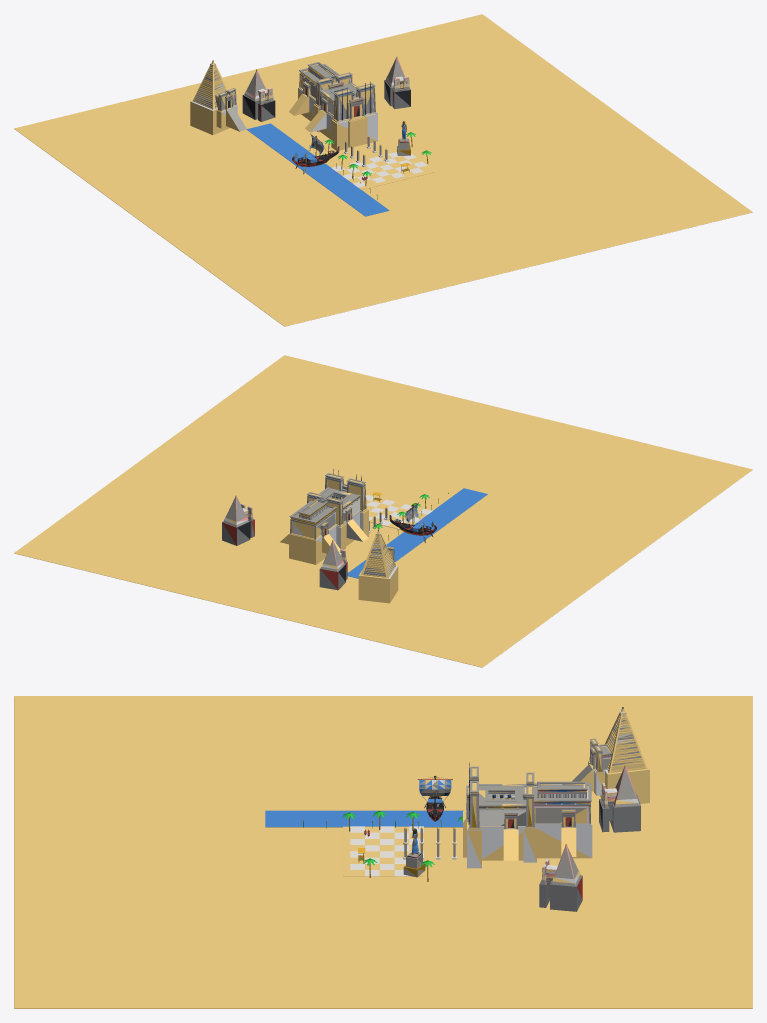
File: nile_pyramids.glb
3 views of the same model, one above another, from view 1: azimuth 30°, elevation 25°; view 2: azimuth 150°, elevation 25°; view 3: azimuth 270°, elevation 25° (orthographic). The views are drawn at different scales.
Visible parts, largest first — view 1: Flat_001, Lowpoly_temple_amun, Flat_023, Lowpoly_pyramid_large, Flat_002, Lowpoly_pyramid_small, Lowpoly_pyramid_small_b, Lowpoly_merchant_ship; view 2: Flat_001, Lowpoly_temple_amun, Lowpoly_pyramid_large, Flat_023, Lowpoly_pyramid_small_b, Lowpoly_pyramid_small, Flat_002, Lowpoly_merchant_ship; view 3: Flat_001, Lowpoly_temple_amun, Lowpoly_pyramid_large, Flat_023, Lowpoly_pyramid_small_b, Flat_002, Lowpoly_pyramid_small, Lowpoly_merchant_ship, Lowpoly_statue_isis.
Part boxes in pixels (bbox=[...]): Flat_001: bbox=[14, 14, 752, 326]; Lowpoly_temple_amun: bbox=[289, 62, 377, 150]; Flat_023: bbox=[246, 123, 389, 216]; Lowpoly_pyramid_large: bbox=[190, 60, 246, 134]; Flat_002: bbox=[337, 155, 435, 189]; Lowpoly_pyramid_small: bbox=[242, 69, 275, 121]; Lowpoly_pyramid_small_b: bbox=[384, 56, 410, 109]; Lowpoly_merchant_ship: bbox=[292, 134, 339, 174]; Flat_001: bbox=[14, 355, 752, 667]; Lowpoly_temple_amun: bbox=[280, 469, 368, 564]; Lowpoly_pyramid_large: bbox=[358, 529, 398, 603]; Flat_023: bbox=[347, 488, 487, 578]; Lowpoly_pyramid_small_b: bbox=[222, 495, 254, 545]; Lowpoly_pyramid_small: bbox=[319, 540, 347, 590]; Flat_002: bbox=[366, 492, 434, 529]; Lowpoly_merchant_ship: bbox=[389, 502, 436, 542]; Flat_001: bbox=[14, 696, 752, 1008]; Lowpoly_temple_amun: bbox=[463, 762, 592, 868]; Lowpoly_pyramid_large: bbox=[572, 706, 649, 803]; Flat_023: bbox=[265, 810, 463, 827]; Lowpoly_pyramid_small_b: bbox=[539, 843, 582, 911]; Flat_002: bbox=[343, 826, 423, 876]; Lowpoly_pyramid_small: bbox=[599, 764, 640, 832]; Lowpoly_merchant_ship: bbox=[417, 775, 452, 821]; Lowpoly_statue_isis: bbox=[403, 828, 425, 877].
Bounding box in the file's own units: 100 × 13.57 × 100.
